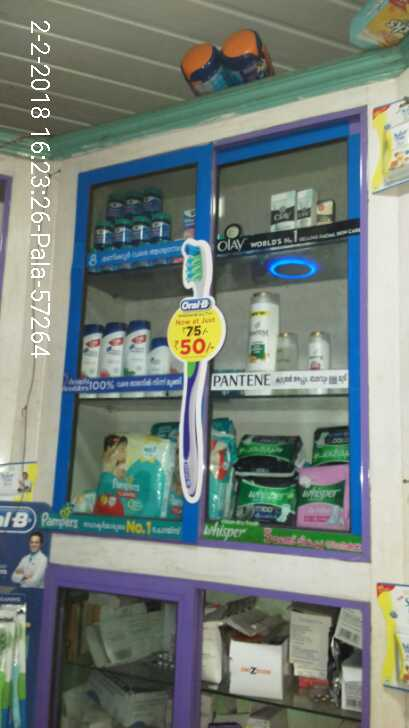vicks: (90, 183, 196, 255)
